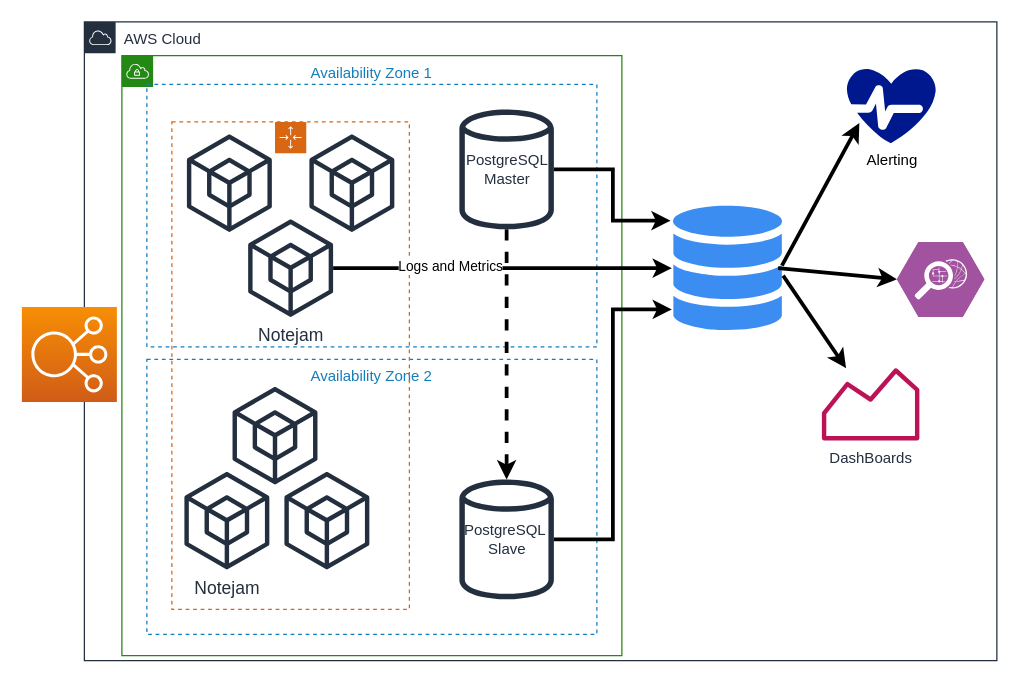
The diagram is 1019 pixels wide and 683 high, and some of its shapes have lost their labels. The box of each missing label's shape, as (x1, y1, x2, y2) in pixels:
Auto Scaling group: (171, 121, 409, 609)
CloudWatch: (671, 205, 784, 330)
Log Search: (896, 241, 984, 317)
Prod: (121, 54, 622, 656)
